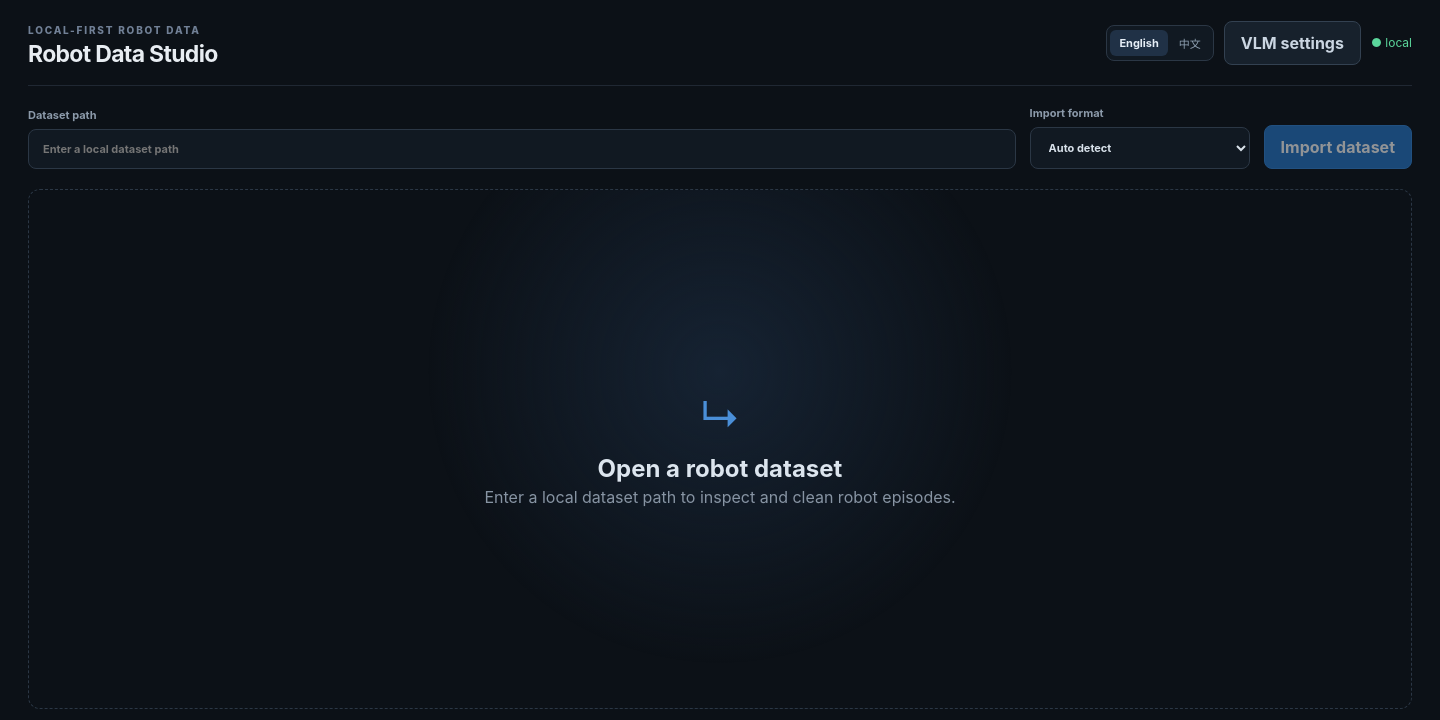
it: shows export errors in the viewer instead of failing silently
Type "/tmp/pusht" into the field labelled "Dataset path" at (522, 149), box x1=28 y1=129 x2=1016 y2=169
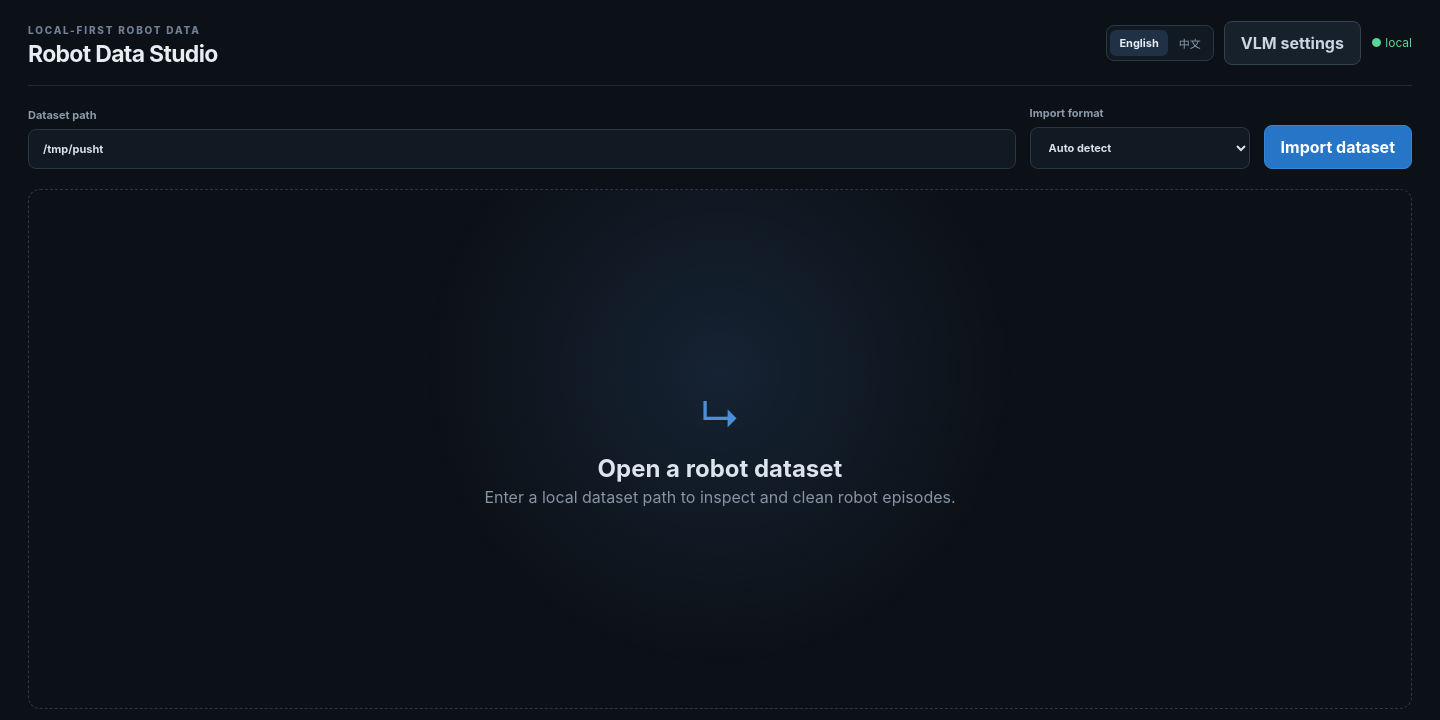
Click the button "Import dataset" at (1338, 147), box x1=1264 y1=125 x2=1412 y2=169
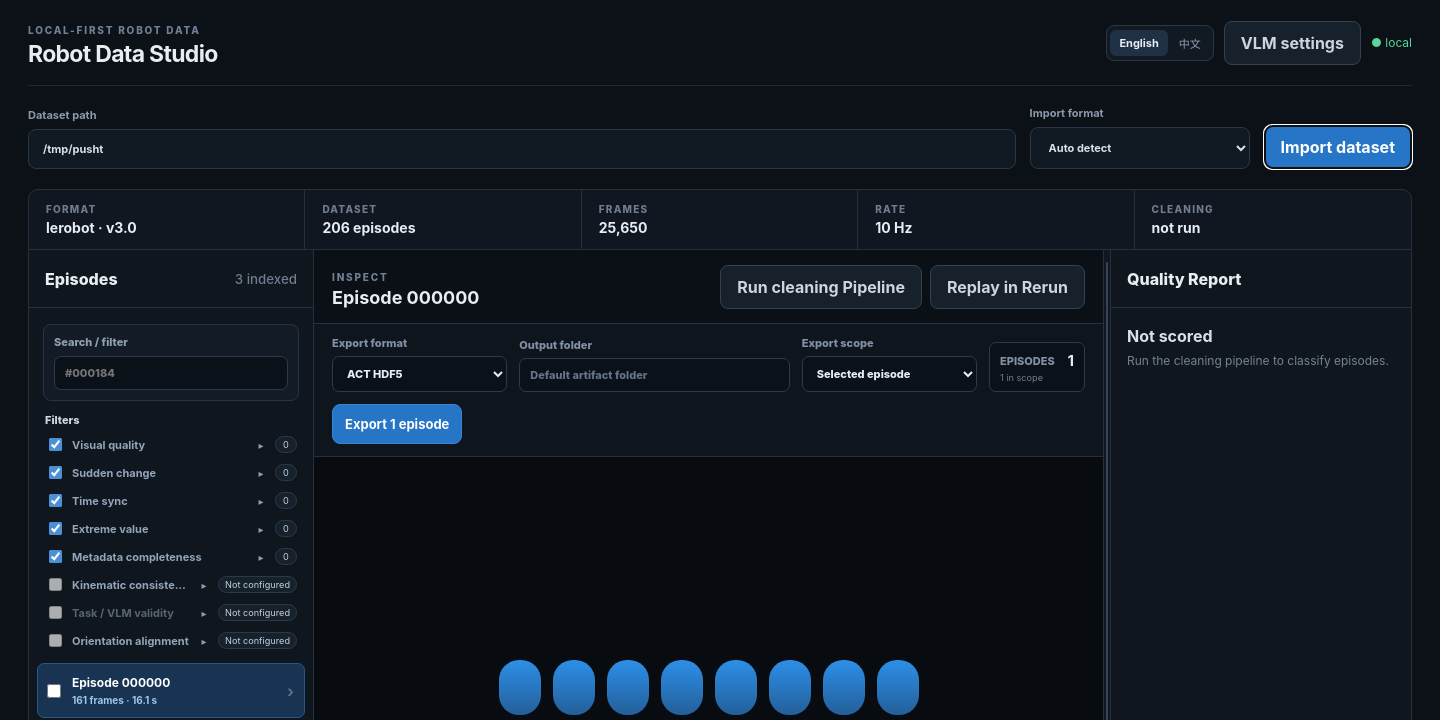
Type "data/samples/conversion_report.json" into the field labelled "Output folder" at (655, 375), box x1=519 y1=358 x2=790 y2=392
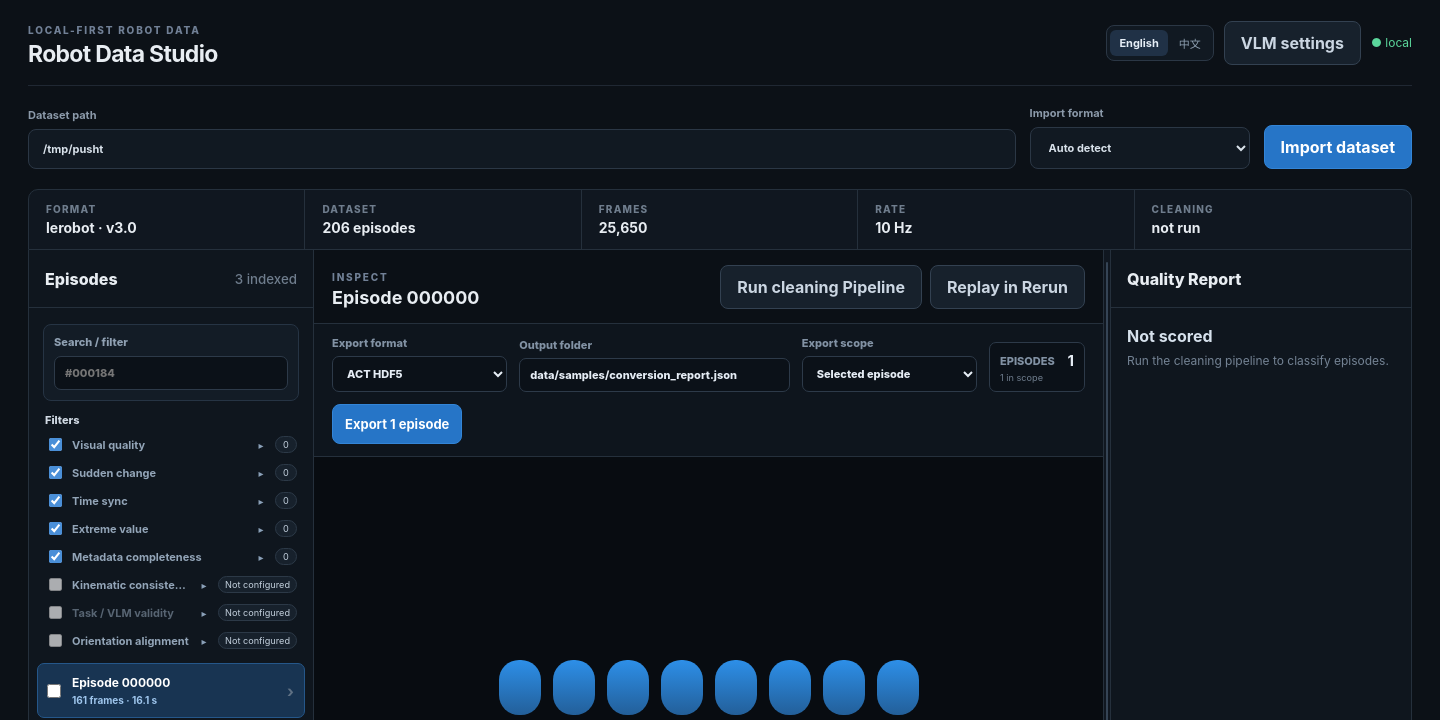
Click the button "Export 1 episode" at (397, 424), box x1=332 y1=404 x2=462 y2=444
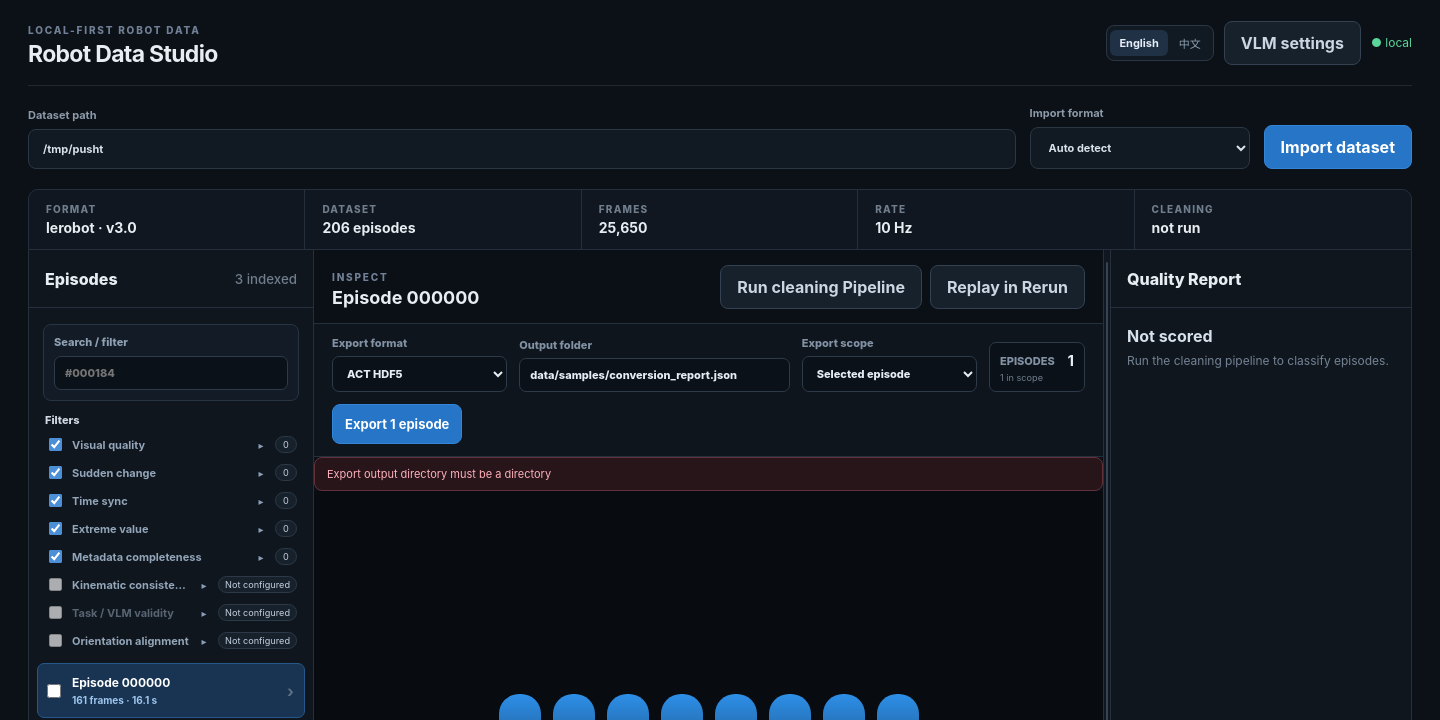
Check: the text "Export output directory must be a directory" is shown, box x1=314 y1=457 x2=1103 y2=491
